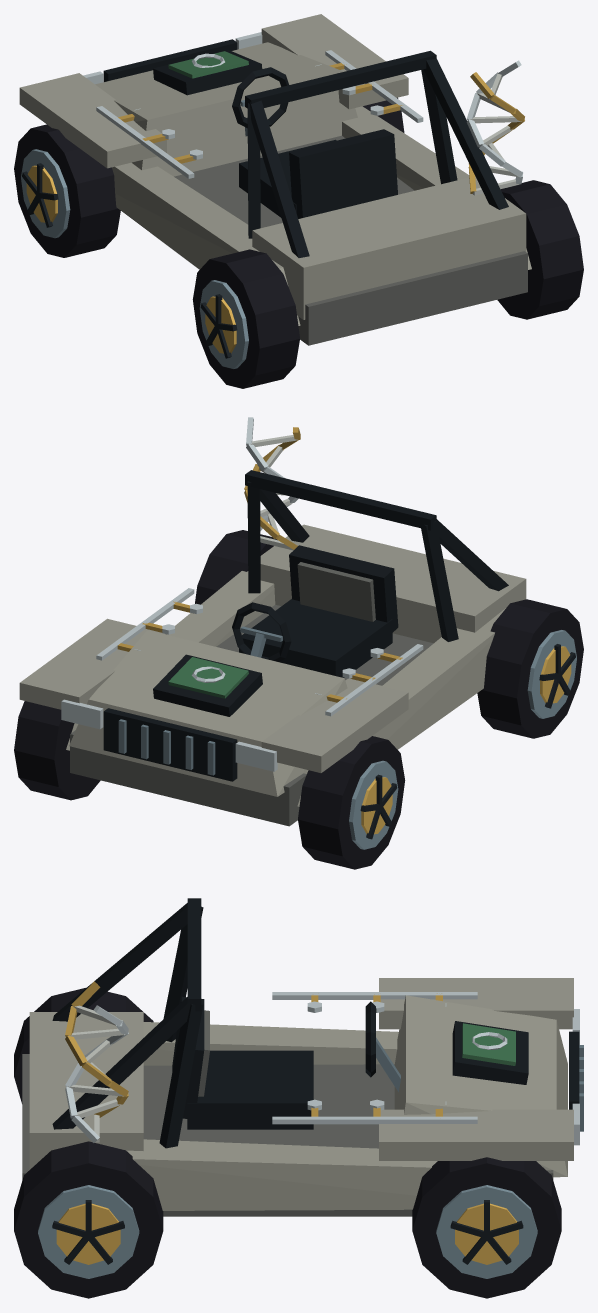
Rendered from kart.glb.
3 views of the same model, one above another, from view 1: azimuth 30°, elevation 25°; view 2: azimuth 150°, elevation 25°; view 3: azimuth 270°, elevation 25° (orthographic). The views are drawn at different scales.
Visible parts, largest first — view 1: identity-jeep-jeep-offroad-frame, wheel-rear-left, wheel-front-left, identity-jeep-driver-cockpit, wheel-rear-right, identity-jeep-motif-scanner, identity-jeep-motif-dna, identity-jeep-motif-circuit; view 2: identity-jeep-jeep-offroad-frame, identity-jeep-driver-cockpit, wheel-rear-left, wheel-front-left, wheel-front-right, identity-jeep-motif-scanner, identity-jeep-motif-circuit, wheel-rear-right, identity-jeep-motif-dna; view 3: identity-jeep-jeep-offroad-frame, wheel-rear-right, wheel-front-right, identity-jeep-driver-cockpit, identity-jeep-motif-dna, identity-jeep-motif-scanner, identity-jeep-motif-circuit, wheel-rear-left.
Boxes of the visible parts, bbox=[...] form: identity-jeep-jeep-offroad-frame: bbox=[19, 14, 531, 345]; wheel-rear-left: bbox=[192, 249, 299, 388]; wheel-front-left: bbox=[14, 124, 120, 257]; identity-jeep-driver-cockpit: bbox=[232, 67, 397, 218]; wheel-rear-right: bbox=[497, 180, 583, 319]; identity-jeep-motif-scanner: bbox=[153, 50, 262, 95]; identity-jeep-motif-dna: bbox=[466, 60, 524, 195]; identity-jeep-motif-circuit: bbox=[96, 50, 423, 178]; identity-jeep-jeep-offroad-frame: bbox=[19, 470, 526, 826]; identity-jeep-driver-cockpit: bbox=[232, 545, 398, 677]; wheel-rear-left: bbox=[477, 599, 583, 738]; wheel-front-left: bbox=[298, 736, 405, 869]; wheel-front-right: bbox=[14, 701, 100, 800]; identity-jeep-motif-scanner: bbox=[153, 654, 262, 716]; identity-jeep-motif-circuit: bbox=[96, 588, 423, 716]; wheel-rear-right: bbox=[195, 530, 277, 604]; identity-jeep-motif-dna: bbox=[244, 417, 300, 550]; identity-jeep-jeep-offroad-frame: bbox=[22, 898, 583, 1216]; wheel-rear-right: bbox=[14, 1141, 163, 1298]; wheel-front-right: bbox=[412, 1157, 561, 1298]; identity-jeep-driver-cockpit: bbox=[172, 996, 400, 1129]; identity-jeep-motif-dna: bbox=[65, 981, 128, 1142]; identity-jeep-motif-scanner: bbox=[452, 1021, 528, 1084]; identity-jeep-motif-circuit: bbox=[272, 992, 477, 1124]; wheel-rear-left: bbox=[14, 987, 153, 1103].
Bounding box in the file's own units: 2.13 × 1.47 × 2.75.
